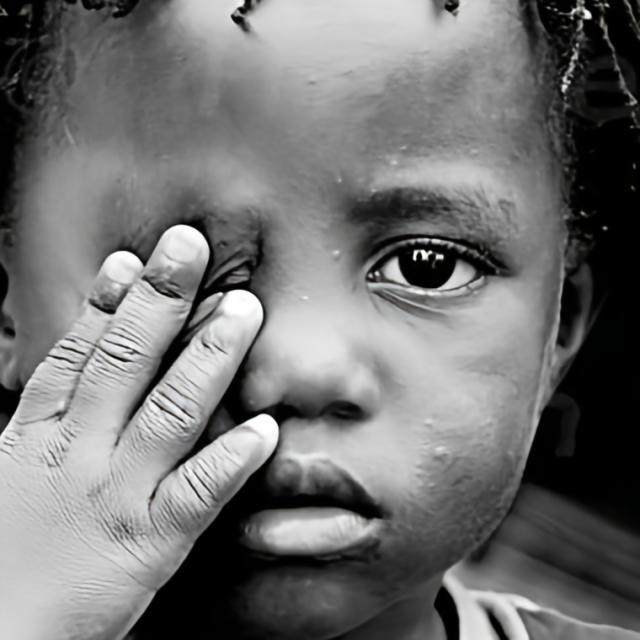sad: (13, 0, 564, 640)
